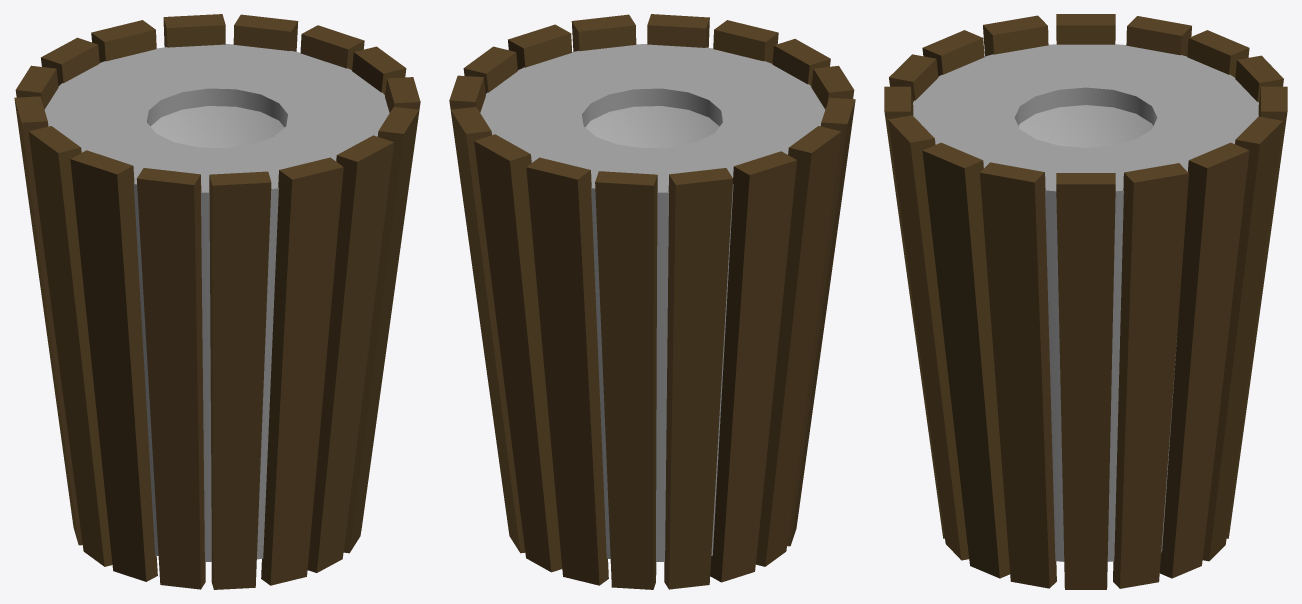
The model's file is EP_ENV_bin.fbx.
The picture shows the model from 3 angles, left to right: view 1: azimuth 30°, elevation 25°; view 2: azimuth 150°, elevation 25°; view 3: azimuth 270°, elevation 25°; orthographic projection.
Visible parts, largest first — view 1: Circle.001; view 2: Circle.001; view 3: Circle.001.
Part boxes in pixels (x1,y1,x2,y2): Circle.001: [14, 14, 420, 589]; Circle.001: [449, 14, 855, 589]; Circle.001: [884, 14, 1287, 589].
Bounding box in the file's own units: 51.37 × 60.53 × 51.37.
